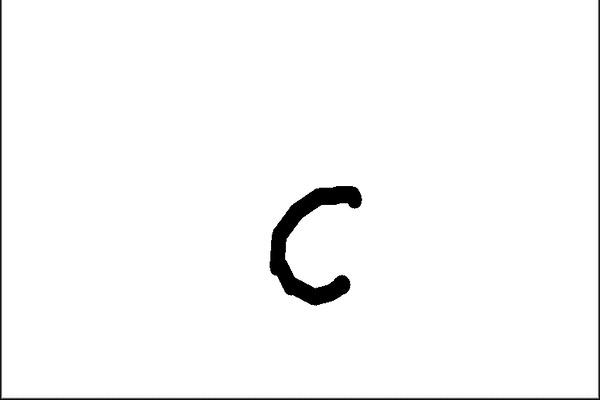C: (263, 178, 366, 310)
